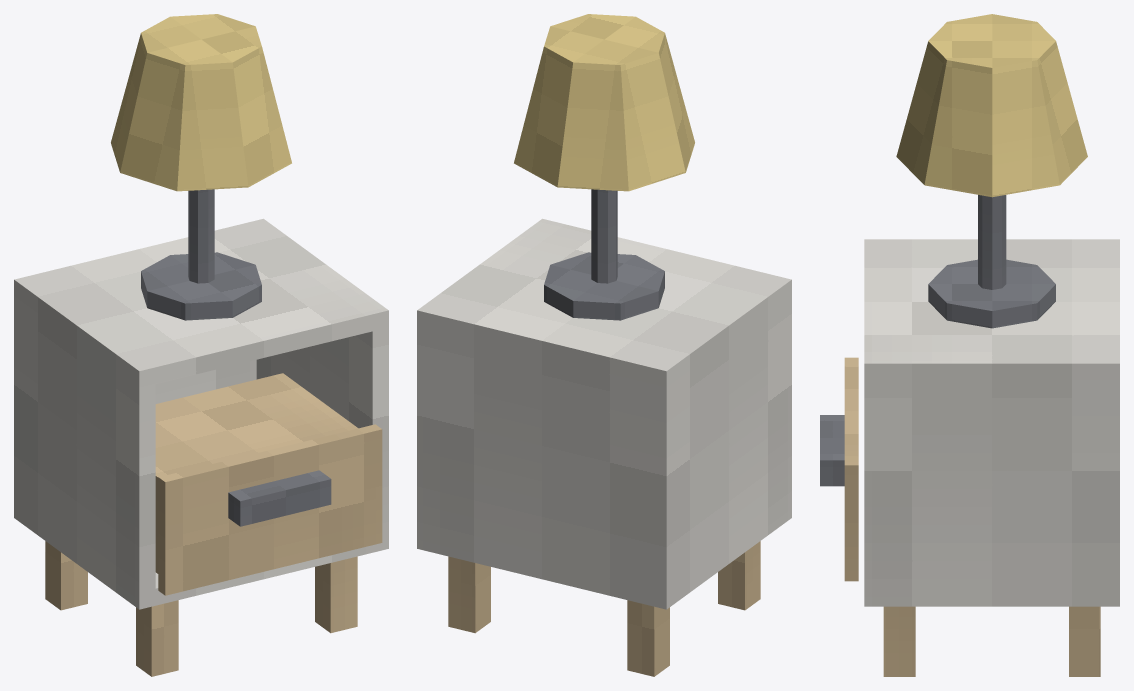
File: pixel-modern-apartments-bedside-table-with-lamp-f09b573d__29839.glb
The picture shows the model from 3 angles, left to right: view 1: azimuth 30°, elevation 25°; view 2: azimuth 150°, elevation 25°; view 3: azimuth 270°, elevation 25°; orthographic projection.
Parts seen in each view (by area): view 1: bedside-table-with-lamp, drawer-1/oak, drawer-1/charcoal; view 2: bedside-table-with-lamp; view 3: bedside-table-with-lamp, drawer-1/oak, drawer-1/charcoal.
Part boxes in pixels (box(x1,y1,x2,y2)): bedside-table-with-lamp: box(14, 14, 388, 676); drawer-1/oak: box(155, 373, 382, 595); drawer-1/charcoal: box(228, 470, 331, 526); bedside-table-with-lamp: box(417, 14, 791, 676); bedside-table-with-lamp: box(864, 14, 1119, 676); drawer-1/oak: box(844, 357, 858, 581); drawer-1/charcoal: box(820, 415, 844, 486).
Size of the model in its own units: 0.46 by 1.01 by 0.4695.
Materials: 4 (4 with a texture image).
